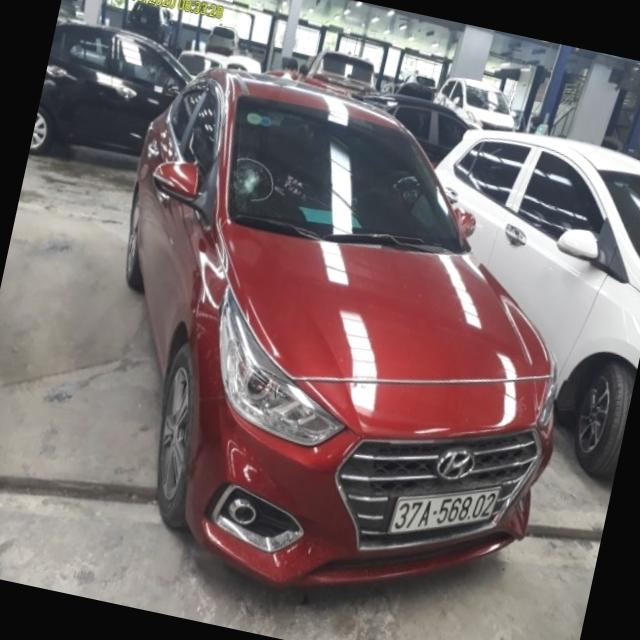Fissure: (221, 141, 292, 229)
